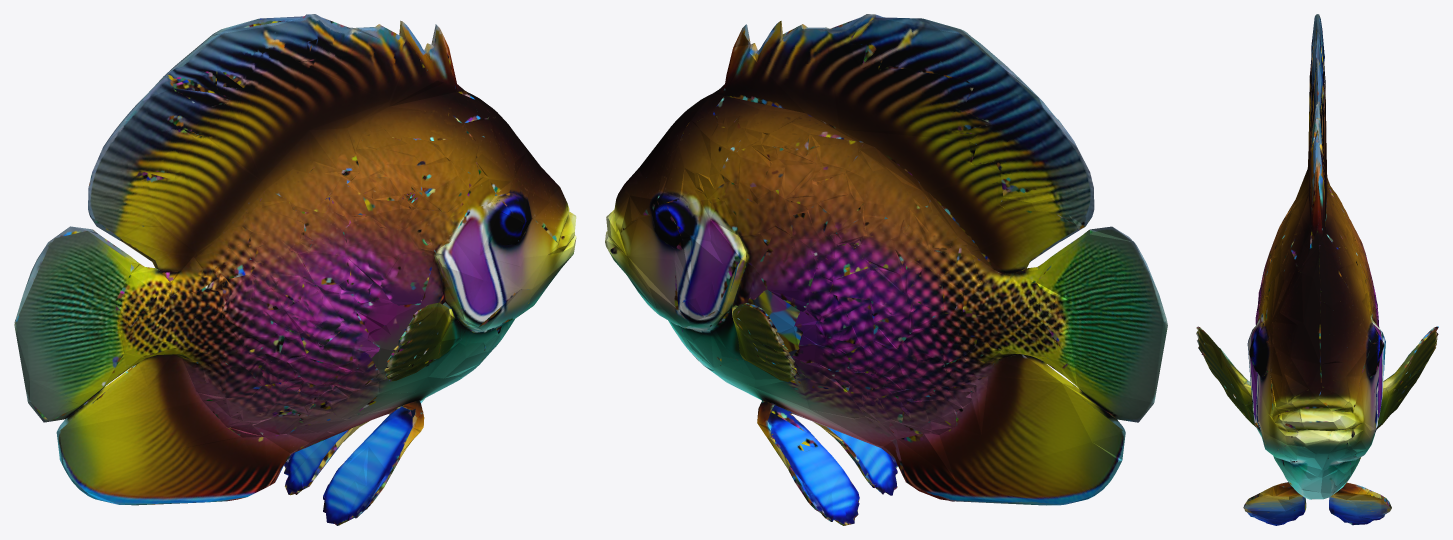
File: fish_0036_smpl23_resized.glb
The picture shows the model from 3 angles, left to right: view 1: azimuth 30°, elevation 25°; view 2: azimuth 150°, elevation 25°; view 3: azimuth 270°, elevation 25°; orthographic projection. The views are drawn at different scales.
Visible parts, largest first — view 1: world; view 2: world; view 3: world.
Boxes of the visible parts, x1,y1,x2,y2 form: world: (14, 14, 576, 525); world: (605, 14, 1167, 525); world: (1196, 14, 1438, 525).
Size of the model in its own units: 1.98 by 1.72 by 0.8016.
Materials: 1 (1 with a texture image).
